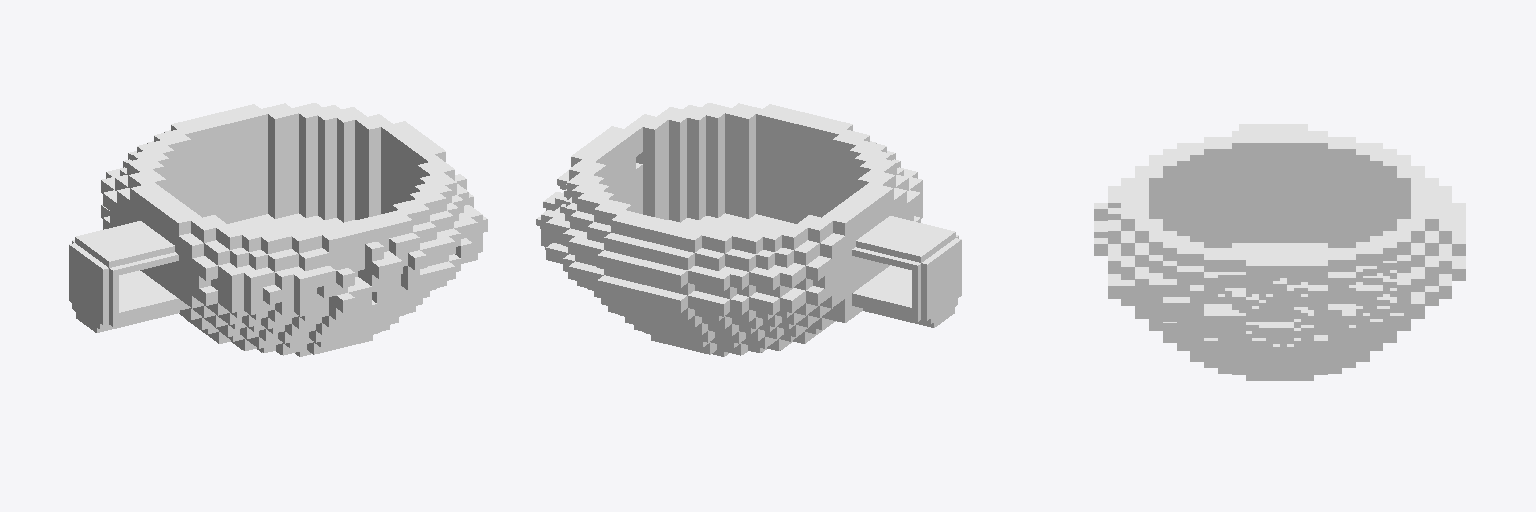
Rendered from chashka.obj.
3 renders of one model, left to right at view 1: azimuth 30°, elevation 25°; view 2: azimuth 150°, elevation 25°; view 3: azimuth 270°, elevation 25°, orthographic.
Size of the model in its own units: 58 by 24 by 54.